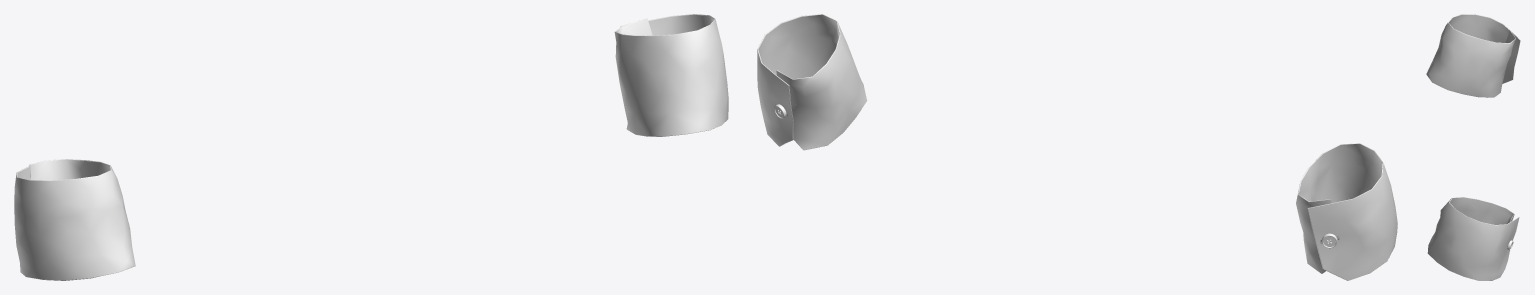
The model's file is 1_Button_Notch.glb.
3 views of the same model, side by side, from view 1: azimuth 30°, elevation 25°; view 2: azimuth 150°, elevation 25°; view 3: azimuth 270°, elevation 25° (orthographic). The views are drawn at different scales.
Parts seen in each view (by area): view 1: Pattern_2052445_Node, Pattern_2052450_Node, Pattern_2052446_Node, Pattern_2052451_Node; view 2: Pattern_2052450_Node, Pattern_2052445_Node, Pattern_2052451_Node, Pattern_2052446_Node; view 3: Pattern_2052450_Node, Pattern_2052445_Node, Pattern_2052446_Node, Pattern_2052451_Node.
Part boxes in pixels (x1,y1,x2,y2): Pattern_2052445_Node: (14,159,135,280); Pattern_2052450_Node: (614,14,728,136); Pattern_2052446_Node: (17,159,110,280); Pattern_2052451_Node: (615,14,714,136); Pattern_2052450_Node: (757,14,866,150); Pattern_2052445_Node: (1296,143,1397,280); Pattern_2052451_Node: (757,14,839,148); Pattern_2052446_Node: (1298,143,1382,280); Pattern_2052450_Node: (1427,197,1519,280); Pattern_2052445_Node: (1426,14,1519,97); Pattern_2052446_Node: (1448,14,1520,97); Pattern_2052451_Node: (1449,197,1518,224).
Bounding box in the file's own units: 59.95 × 9.96 × 11.55.
Materials: 10 (2 with a texture image).
